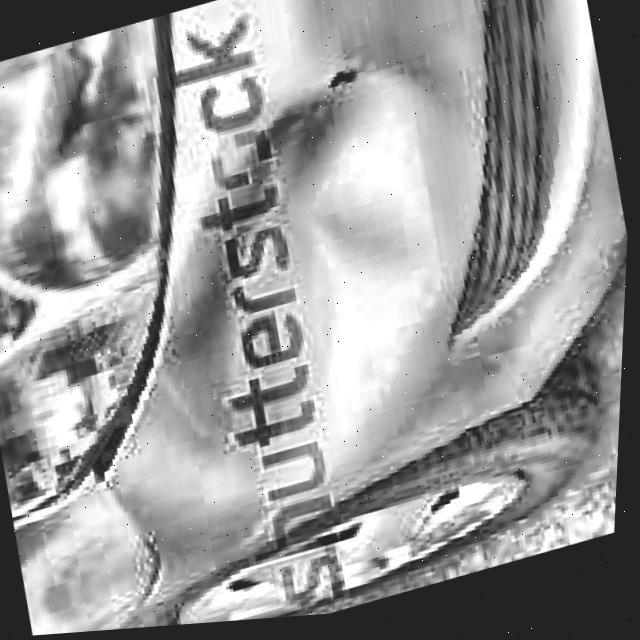bumper_dent: (124, 41, 520, 527)
